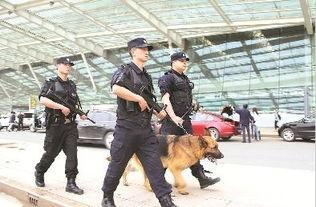up: (99, 36, 175, 207), (157, 51, 221, 190), (35, 55, 85, 198)
